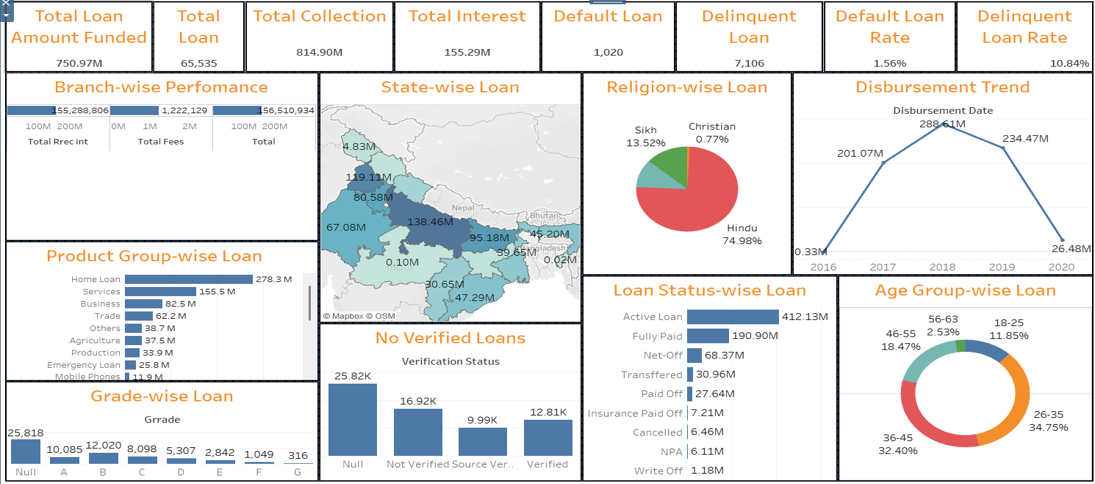

The page's visual inventory and layout, read from the dashboard file:
{"tool":"tableau","page":{"name":"Dashboard 1","canvas":[1000,1000],"units":"permille","ordinal":0},"visuals":[{"type":"worksheet","title":"Total Loan Funded Amount","mark":"Automatic","box":[4.8,10,121.4,144.8]},{"type":"worksheet","title":"Total Loan","mark":"Automatic","box":[126.2,10,75.7,144.8]},{"type":"worksheet","title":"Total Collection","mark":"Automatic","box":[201.9,10,122,144.8]},{"type":"worksheet","title":"Total Interest","mark":"Automatic","box":[324,10,120.9,144.8]},{"type":"worksheet","title":"Default Loan","mark":"Automatic","box":[444.9,10,110.6,144.8]},{"type":"worksheet","title":"Delinquent Loan","mark":"Automatic","box":[555.4,10,121.5,144.8]},{"type":"worksheet","title":"Default Loan Rate","mark":"Automatic","box":[676.9,10,108.9,144.8]},{"type":"worksheet","title":"Delinquent Loan Rate","mark":"Automatic","box":[785.8,10,112.8,144.8]},{"type":"filter","title":"Branch-wise Perfomance","param":"[federated.0k5dk7v0utm83913nauem01jgkbv].[none:Branch Name:nk]","box":[898.6,10,96.6,980]},{"type":"worksheet","title":"Branch-wise Perfomance","mark":"Bar","cols":["Total Rrec int","Total Fees","Calculation_1017250630917292032"],"box":[4.8,154.8,257.6,344.6]},{"type":"worksheet","title":"State-wise Loan","mark":"Automatic","box":[262.4,154.8,216.2,511.9]},{"type":"worksheet","title":"Religion-wise Loan","mark":"Pie","box":[478.6,154.8,172.7,414.5]},{"type":"worksheet","title":"Disbursement Trend","mark":"Line","rows":["Loan Amount"],"cols":["Disbursement Date"],"box":[651.3,154.8,247.3,414.5]},{"type":"dashboard-object","box":[978.9,157.3,14.5,30]},{"type":"worksheet","title":"Product Group-wise Loan","mark":"Bar","rows":["Purpose Category"],"cols":["Loan Amount"],"box":[4.8,499.3,257.6,285.6]},{"type":"worksheet","title":"Loan Status-wise Loan","mark":"Automatic","rows":["Loan Status"],"cols":["Loan Amount"],"box":[478.6,569.2,210,420.8]},{"type":"worksheet","title":"Age Group-wise Loan","mark":"Pie","rows":["Calculation_671317884504694790","Calculation_671317884504694790"],"box":[688.6,569.2,210,420.8]},{"type":"worksheet","title":"No Verified Loans","mark":"Bar","rows":["Calculation_671317884499546116"],"cols":["Verification Status"],"box":[262.4,666.6,216.2,323.4]},{"type":"worksheet","title":"Grade-wise Loan","mark":"Automatic","rows":["Loan Amount"],"cols":["Grrade"],"box":[4.8,784.9,257.6,205.1]}]}

Visuals, with their boxes on the dashboard's canvas, which has no fixed pixel size, in thousandths of its width and height (x1, y1, x2, y2). These are canvas units, not pixel positions in the 1095x484 screenshot, which may show the page scaled, cropped or inside an application window:
"Total Loan Funded Amount" worksheet: box(5, 10, 126, 155)
"Total Loan" worksheet: box(126, 10, 202, 155)
"Total Collection" worksheet: box(202, 10, 324, 155)
"Total Interest" worksheet: box(324, 10, 445, 155)
"Default Loan" worksheet: box(445, 10, 556, 155)
"Delinquent Loan" worksheet: box(555, 10, 677, 155)
"Default Loan Rate" worksheet: box(677, 10, 786, 155)
"Delinquent Loan Rate" worksheet: box(786, 10, 899, 155)
"Branch-wise Perfomance" filter: box(899, 10, 995, 990)
"Branch-wise Perfomance" worksheet (Bar marks): box(5, 155, 262, 499)
"State-wise Loan" worksheet: box(262, 155, 479, 667)
"Religion-wise Loan" worksheet (Pie marks): box(479, 155, 651, 569)
"Disbursement Trend" worksheet (Line marks): box(651, 155, 899, 569)
dashboard-object: box(979, 157, 993, 187)
"Product Group-wise Loan" worksheet (Bar marks): box(5, 499, 262, 785)
"Loan Status-wise Loan" worksheet: box(479, 569, 689, 990)
"Age Group-wise Loan" worksheet (Pie marks): box(689, 569, 899, 990)
"No Verified Loans" worksheet (Bar marks): box(262, 667, 479, 990)
"Grade-wise Loan" worksheet: box(5, 785, 262, 990)
